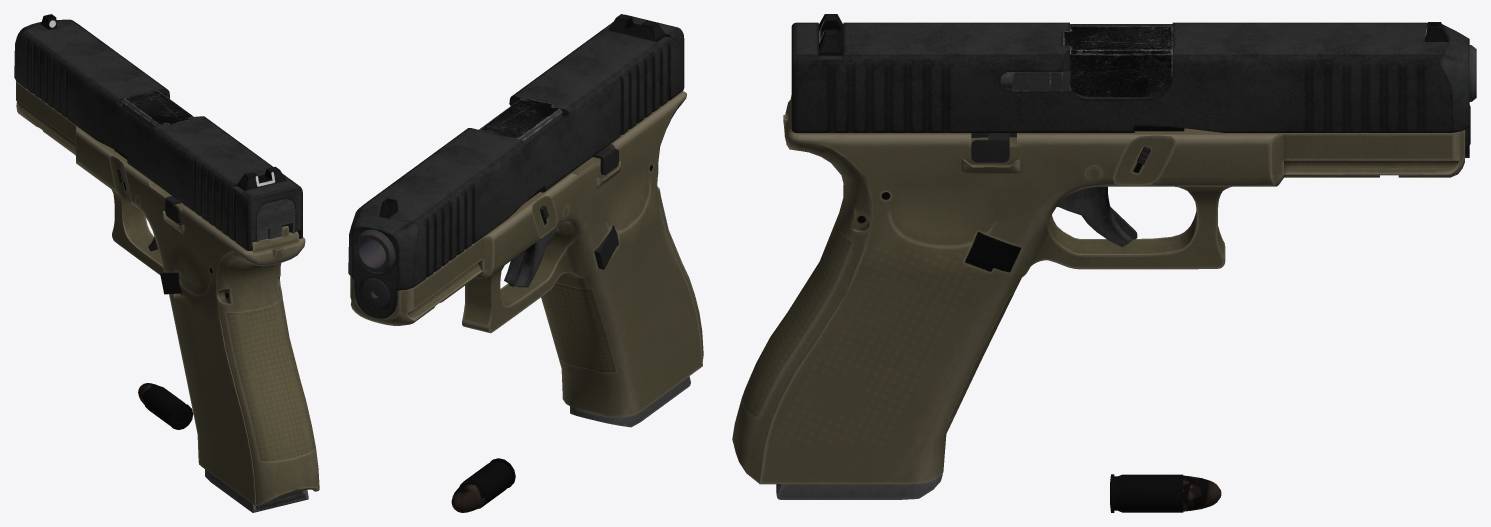
Rendered from Glock-17gen5.fbx.
3 renders of one model, left to right at view 1: azimuth 30°, elevation 25°; view 2: azimuth 150°, elevation 25°; view 3: azimuth 270°, elevation 25°, orthographic. The views are drawn at different scales.
Parts seen in each view (by area): view 1: Loder_001_Low, Hinge_low, Loder_001_Low.001, Ammo_low, Mag_low, Buttons_low; view 2: Loder_001_Low, Hinge_low, Loder_001_Low.001, Ammo_low, Barrel_low, Mag_low, Loop_det_001_low, Buttons_low, Buttons_low.002; view 3: Loder_001_Low, Hinge_low, Loder_001_Low.001, Ammo_low, Mag_low, Loop_det_001_low, Buttons_low.002.
Part boxes in pixels (<box>): Loder_001_Low: <box>16,81,319,506</box>; Hinge_low: <box>14,14,302,250</box>; Loder_001_Low.001: <box>122,90,193,128</box>; Ammo_low: <box>138,383,193,429</box>; Mag_low: <box>185,205,308,512</box>; Buttons_low: <box>160,272,181,294</box>; Loder_001_Low: <box>350,91,703,417</box>; Hinge_low: <box>348,14,684,318</box>; Loder_001_Low.001: <box>479,98,562,143</box>; Ammo_low: <box>451,458,515,512</box>; Barrel_low: <box>354,229,395,273</box>; Mag_low: <box>570,376,690,427</box>; Loop_det_001_low: <box>504,227,556,287</box>; Buttons_low: <box>594,225,618,269</box>; Buttons_low.002: <box>593,148,618,175</box>; Loder_001_Low: <box>732,95,1470,484</box>; Hinge_low: <box>791,14,1469,157</box>; Loder_001_Low.001: <box>1063,26,1172,96</box>; Ammo_low: <box>1110,474,1221,512</box>; Mag_low: <box>776,133,1016,499</box>; Loop_det_001_low: <box>1057,186,1132,247</box>; Buttons_low.002: <box>971,133,1009,162</box>.
Size of the model in its own units: 3.08 by 14.17 by 20.16.
Materials: 2 (2 with a texture image).
